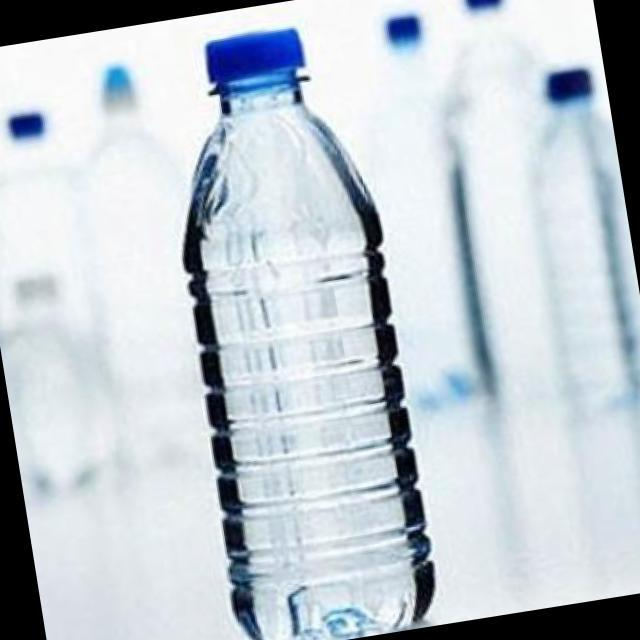good: (120, 4, 467, 640)
